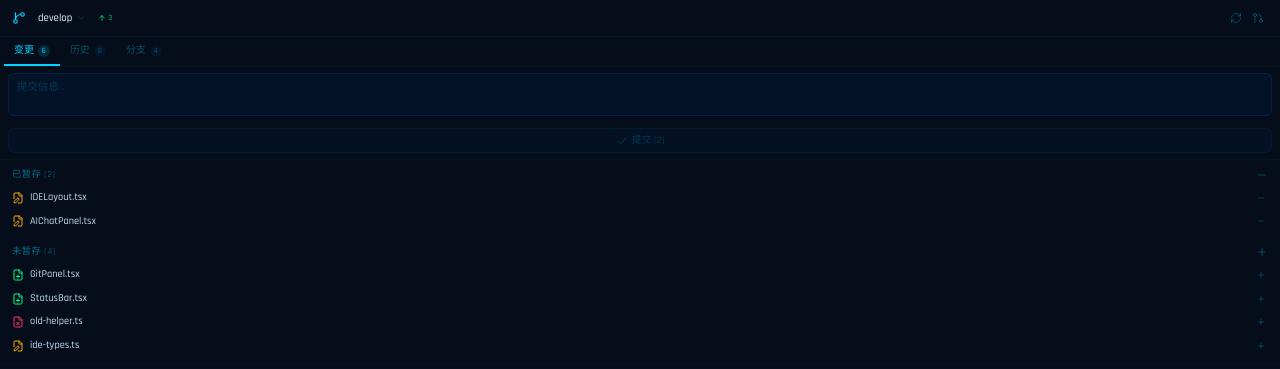
it: GitPanel › 分支选择器: 点击开合 + ahead/behind 角标
Click the button "develop". click: (62, 18)
box: x1=32 y1=8 x2=92 y2=28
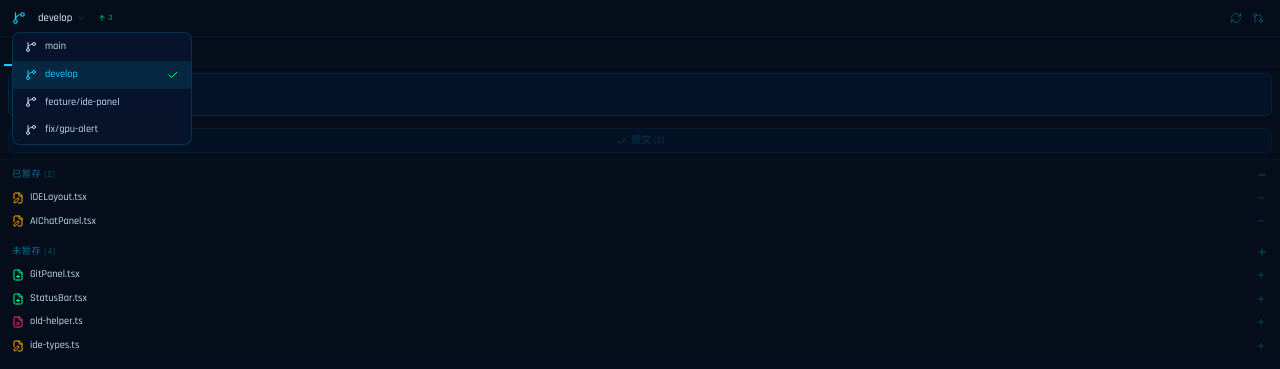
Check: the text "feature/ide-panel" is shown, box x1=45 y1=94 x2=120 y2=108
选择其他分支 → 关闭下拉
Click the button "main". click: (102, 47)
box: x1=13 y1=33 x2=191 y2=61
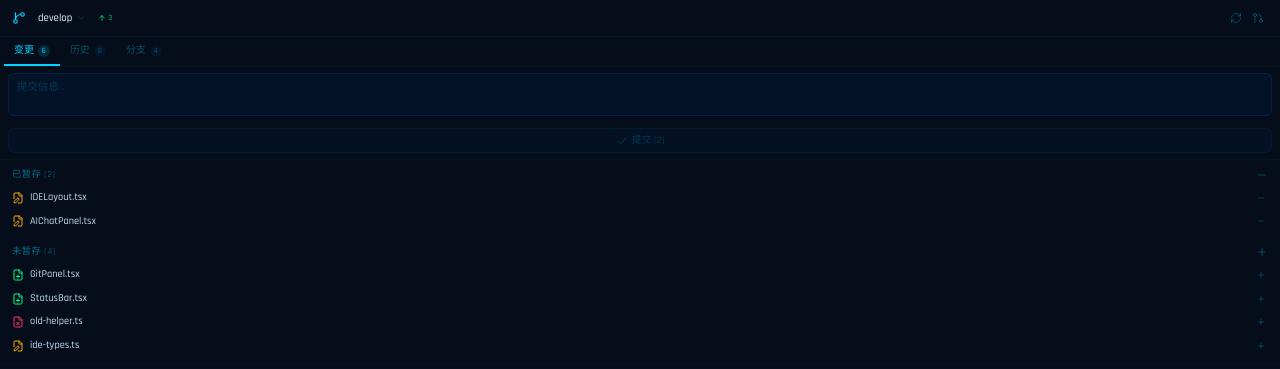
Check: the text "fix/gpu-alert" is gone
